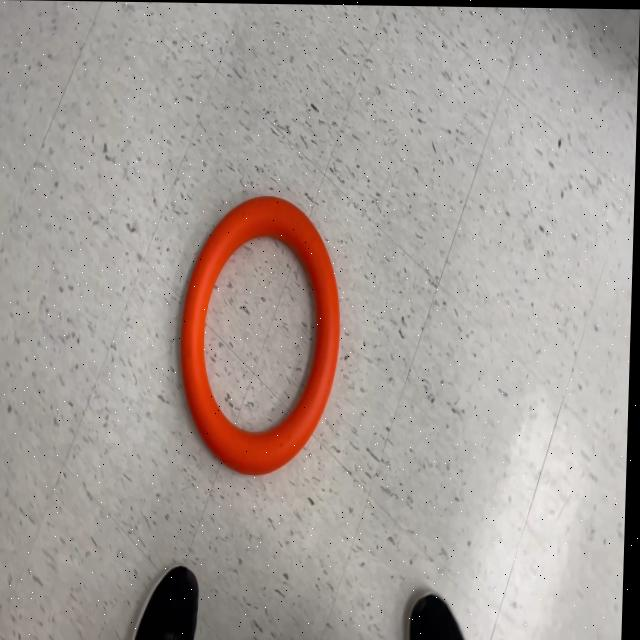note: (179, 193, 346, 476)
